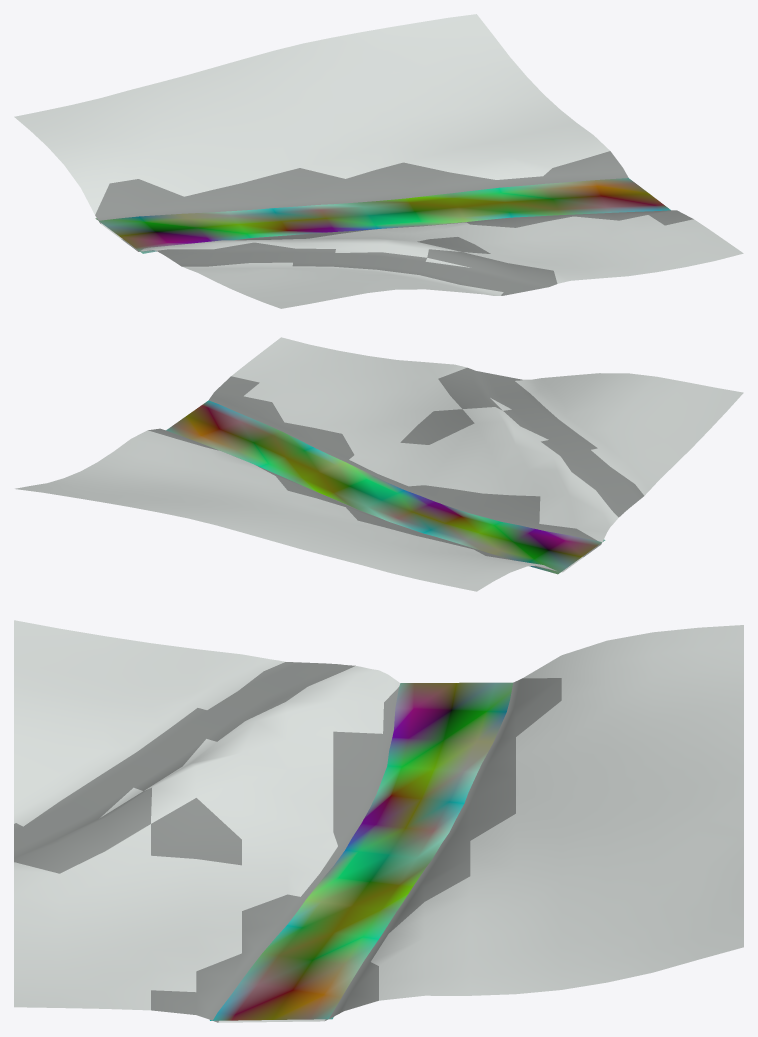
The picture shows the model from 3 angles, top to bottom: view 1: azimuth 30°, elevation 25°; view 2: azimuth 150°, elevation 25°; view 3: azimuth 270°, elevation 25°; orthographic projection. The views are drawn at different scales.
Parts seen in each view (by area): view 1: G:\FFXIV-MapTools\exports\r1f1\bg\ffxiv\roc_r1\fld\r1f1\bgpl (×4); view 2: G:\FFXIV-MapTools\exports\r1f1\bg\ffxiv\roc_r1\fld\r1f1\bgpl (×4); view 3: G:\FFXIV-MapTools\exports\r1f1\bg\ffxiv\roc_r1\fld\r1f1\bgpl (×4).
Part boxes in pixels (x1,y1,x2,y2): G:\FFXIV-MapTools\exports\r1f1\bg\ffxiv\roc_r1\fld\r1f1\bgpl (×4): [14, 14, 743, 308]; G:\FFXIV-MapTools\exports\r1f1\bg\ffxiv\roc_r1\fld\r1f1\bgpl (×4): [15, 337, 743, 591]; G:\FFXIV-MapTools\exports\r1f1\bg\ffxiv\roc_r1\fld\r1f1\bgpl (×4): [14, 620, 743, 1022].
Bounding box in the file's own units: 128 × 18.22 × 128.
